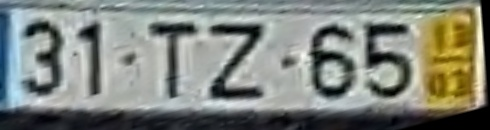1: (74, 19, 108, 98)
3: (18, 19, 66, 99)
5: (364, 20, 416, 100)
6: (307, 20, 360, 102)
T: (146, 21, 204, 103)
Z: (205, 22, 269, 102)
